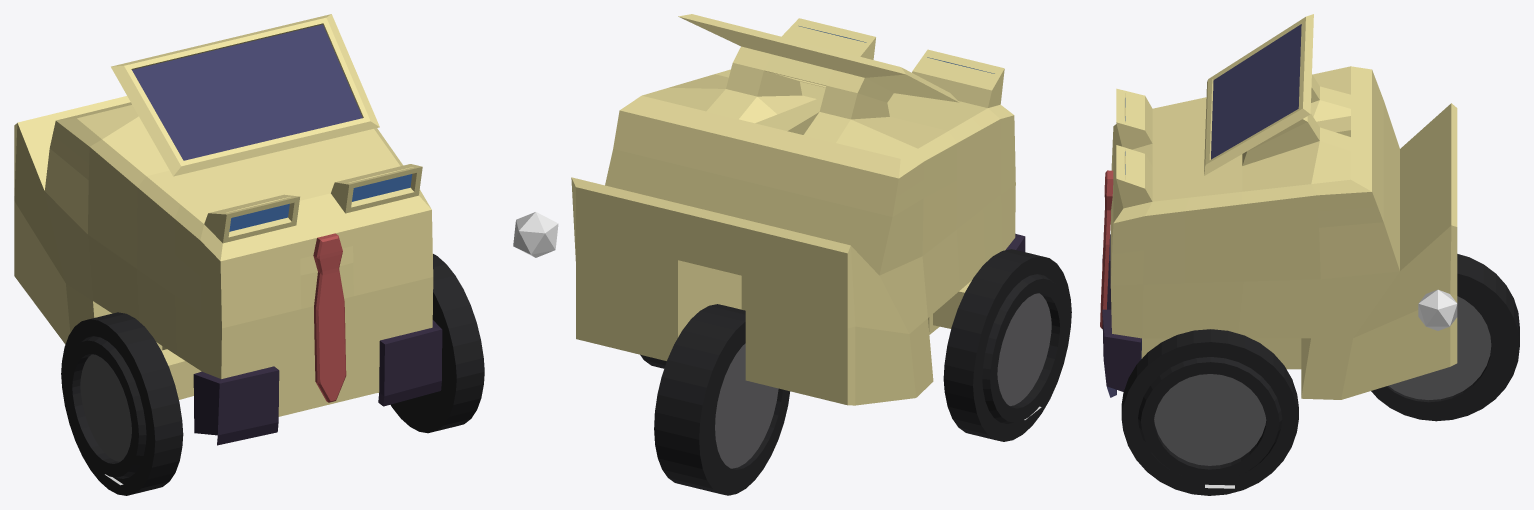
The model's file is jamportbot0-Textured.fbx.
3 renders of one model, left to right at view 1: azimuth 30°, elevation 25°; view 2: azimuth 150°, elevation 25°; view 3: azimuth 270°, elevation 25°, orthographic. The views are drawn at different scales.
Visible parts, largest first — view 1: Carbody, frontwheel, frontwheel_02; view 2: Carbody, frontwheel, backwheel, dUST; view 3: Carbody, frontwheel_02, backwheel, dUST.
Part boxes in pixels (x1,y1,x2,y2): Carbody: [14, 14, 442, 445]; frontwheel: [61, 312, 183, 495]; frontwheel_02: [390, 254, 484, 433]; Carbody: [571, 14, 1025, 405]; frontwheel: [943, 249, 1071, 441]; backwheel: [654, 304, 790, 495]; dUST: [513, 212, 558, 257]; Carbody: [1100, 14, 1457, 399]; frontwheel_02: [1121, 329, 1298, 495]; backwheel: [1371, 254, 1519, 421]; dUST: [1418, 289, 1457, 330].
Size of the model in its own units: 158 by 156 by 166.
1 material, 1 textured.
